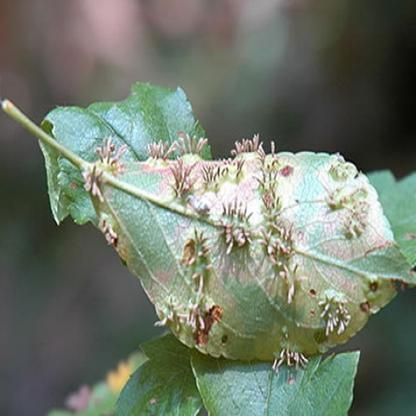Apple rust leaf: (88, 114, 410, 378)
